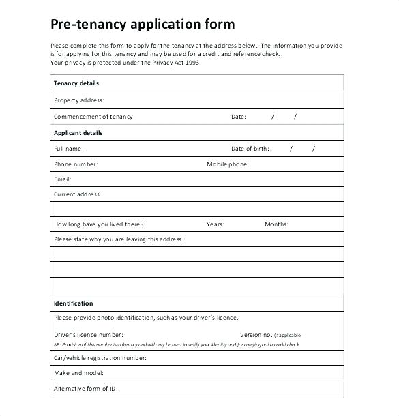textbox: (47, 308, 346, 351), (48, 89, 345, 110), (48, 213, 346, 233), (48, 363, 346, 383), (48, 378, 346, 398), (47, 169, 346, 188), (48, 139, 346, 158), (46, 185, 346, 203), (47, 200, 346, 218), (48, 155, 346, 173), (48, 348, 346, 366), (48, 230, 345, 248), (48, 109, 347, 125), (293, 109, 346, 125), (310, 137, 346, 158), (288, 136, 317, 158), (269, 137, 295, 157), (269, 108, 297, 125), (248, 108, 271, 125)
